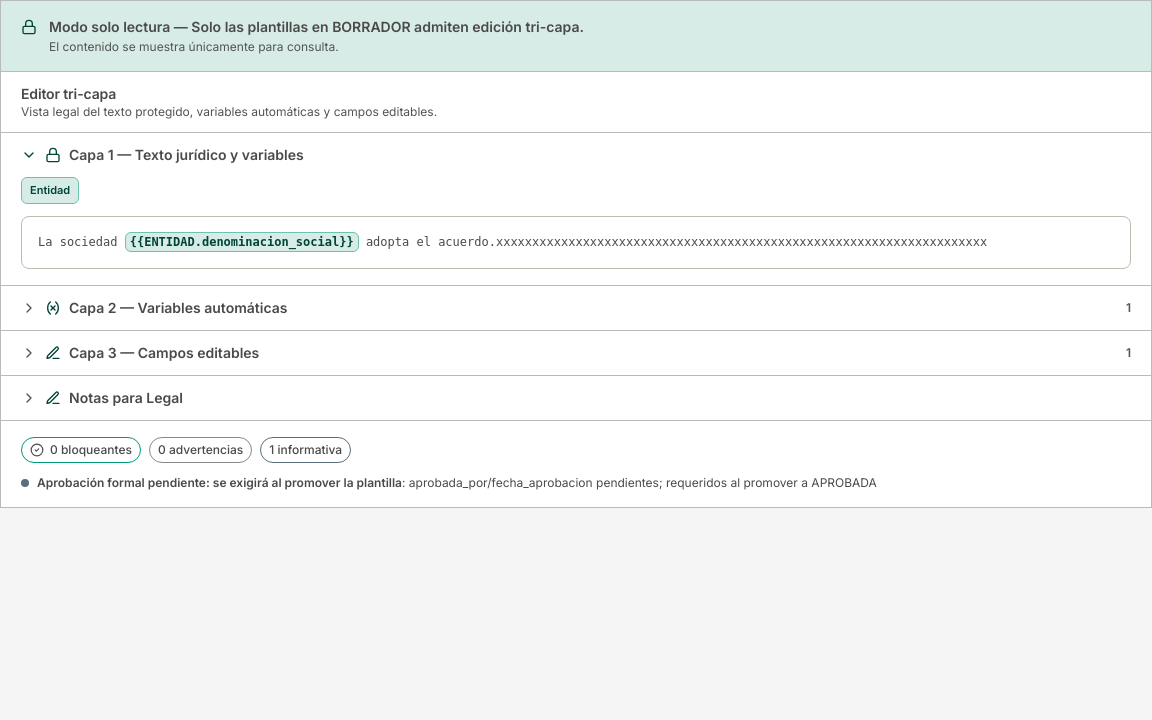
Test case: TriCapaEditor › presenta la vista legal con namespaces, uso, obligatoriedad y validación por campo
The image size is (1152, 720).
Check: the element named "Vista legal del texto protegido" is shown, box x1=21 y1=216 x2=1131 y2=269
Check: the text "Entidad" is shown, box x1=21 y1=177 x2=79 y2=204
Step 1. Click the button "Capa 2 — Variables automáticas 1" → (178, 308), box x1=1 y1=286 x2=1151 y2=330
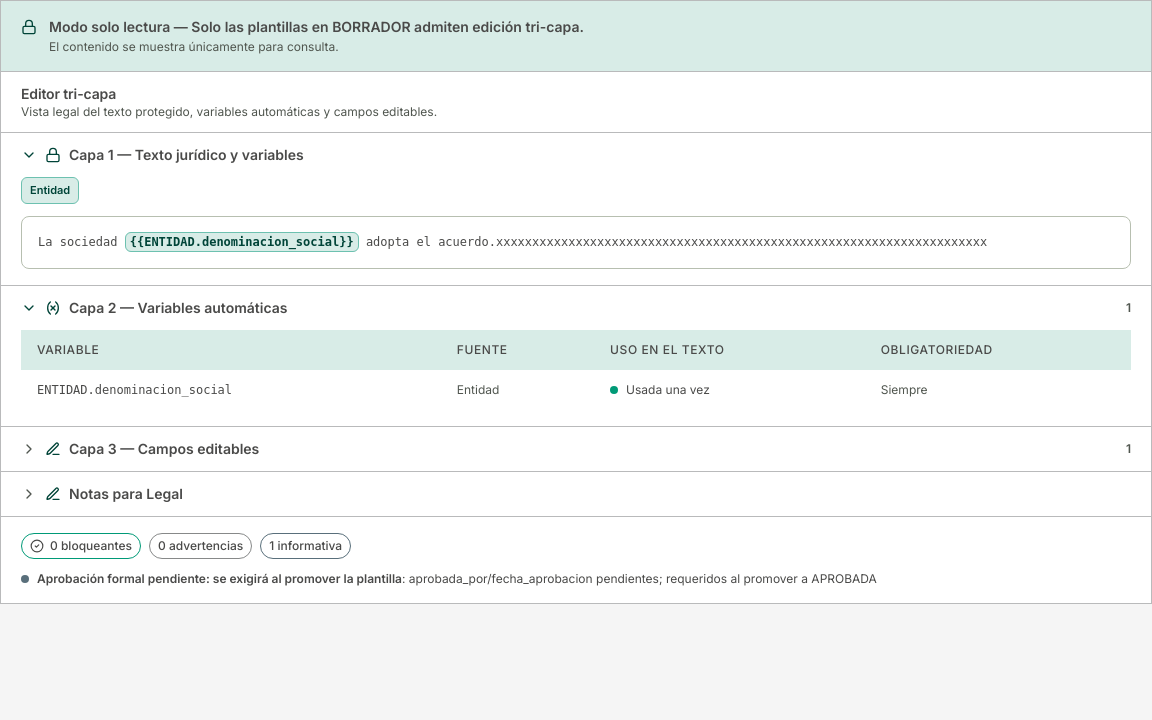
Check: the column heading "Uso en el texto" is shown, box x1=594 y1=330 x2=865 y2=370
Check: the text "Usada una vez" is shown, box x1=610 y1=382 x2=710 y2=398
Check: the text "Siempre" is shown, box x1=865 y1=370 x2=1131 y2=410
Step 2. Click the button "Capa 3 — Campos editables 1" → (164, 448), box x1=1 y1=427 x2=1151 y2=471
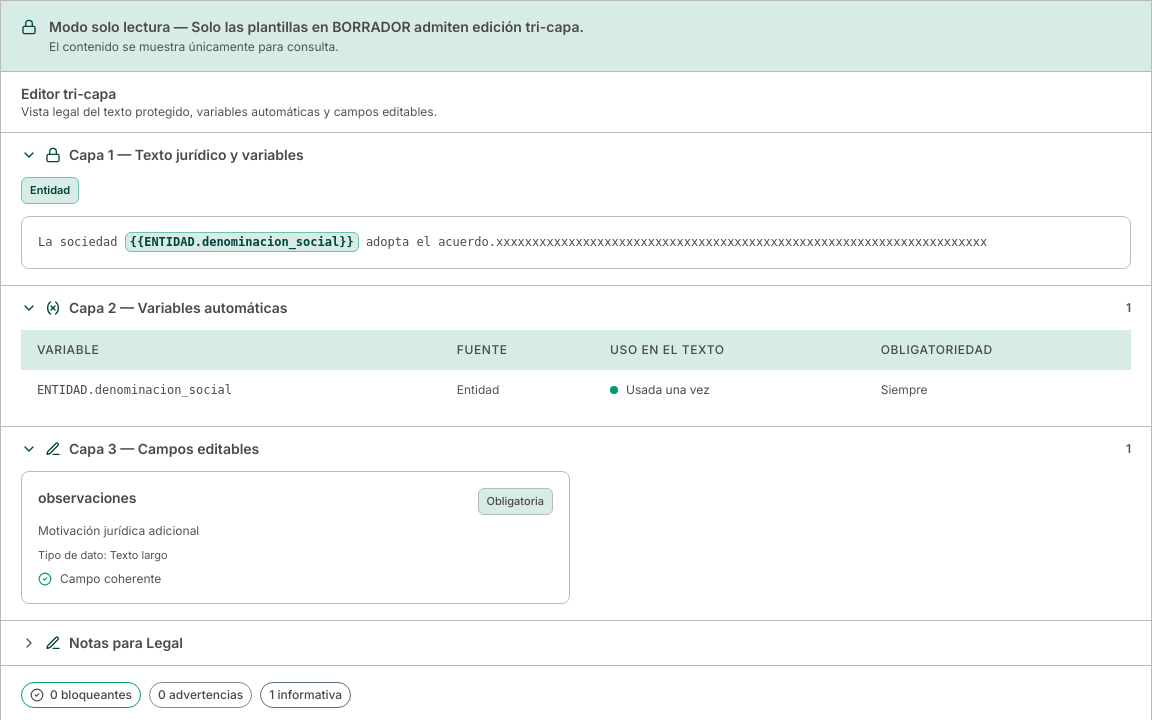
Check: the text "Obligatoria" is shown, box x1=478 y1=488 x2=553 y2=514
Check: the text "Tipo de dato: Texto largo" is shown, box x1=38 y1=548 x2=168 y2=562
Check: the text "Motivación jurídica adicional" is shown, box x1=38 y1=522 x2=199 y2=538
